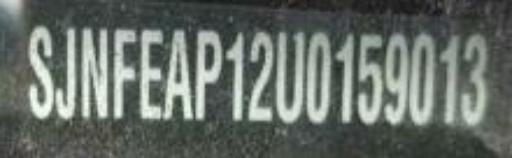letter: (161, 25, 195, 123), (77, 25, 111, 121), (273, 27, 305, 125), (23, 23, 55, 119), (193, 27, 225, 123), (458, 31, 490, 127), (356, 28, 386, 126), (407, 30, 437, 128), (246, 27, 276, 123), (303, 30, 333, 126), (112, 23, 138, 123), (138, 25, 164, 125), (382, 27, 408, 125), (54, 25, 78, 121), (332, 30, 356, 126), (436, 32, 460, 128), (224, 27, 246, 123)
